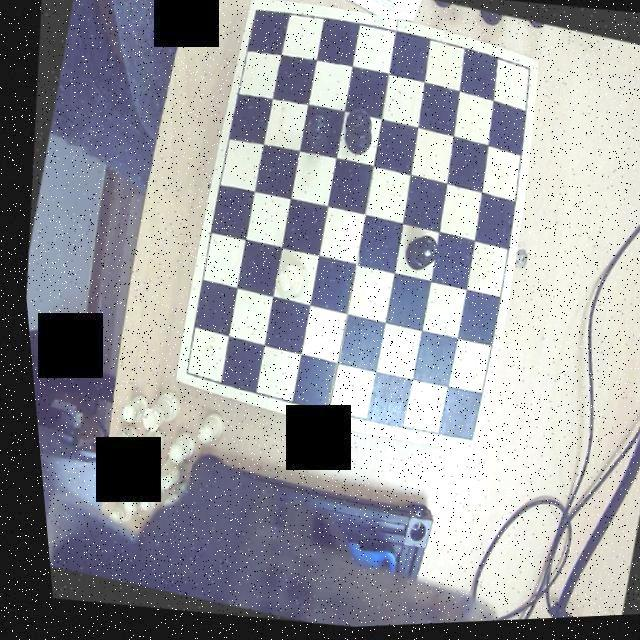chess-table-corners: (446, 425, 475, 455), (169, 361, 197, 390), (244, 0, 268, 31), (512, 59, 538, 86)
